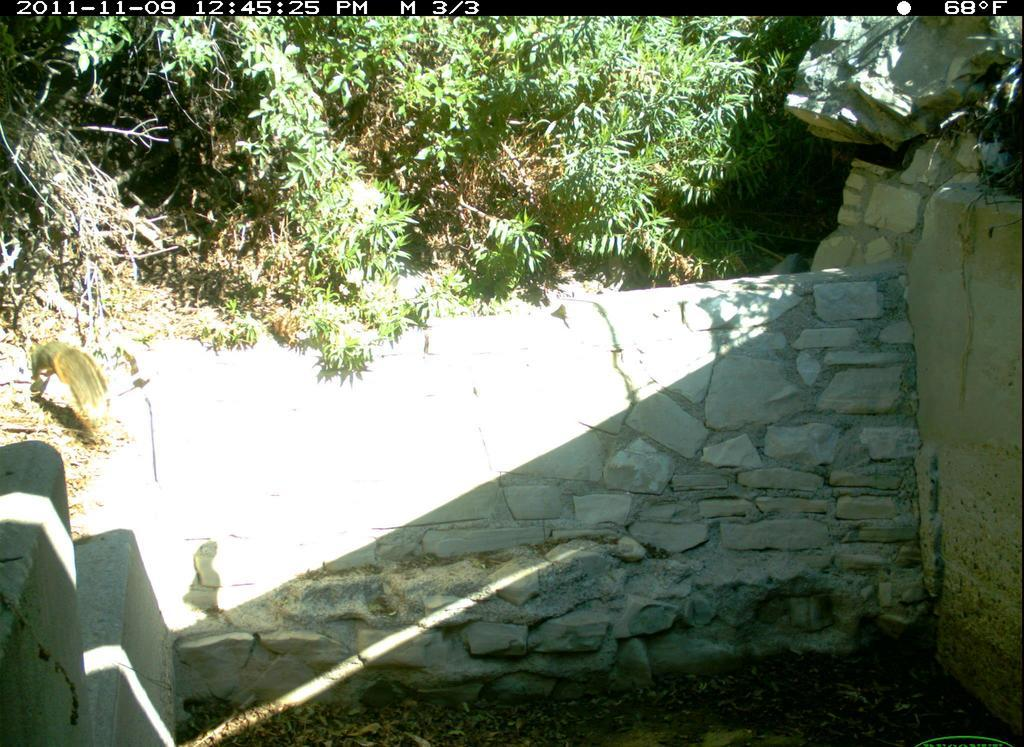squirrel: (16, 325, 138, 452)
